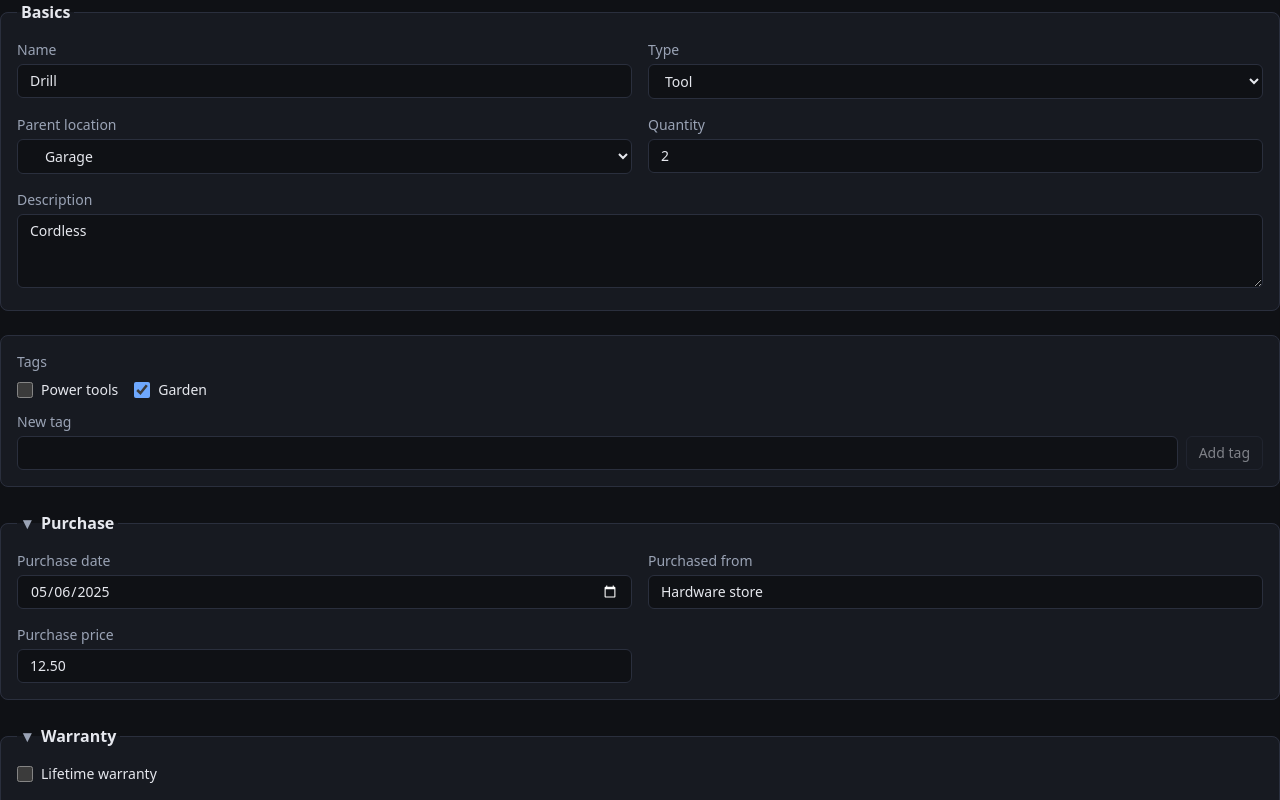
EntityForm › submit gating › disables Save again when the name is cleared in edit mode
expect the checkbox labelled "Garden" is shown: met, box [134, 382, 150, 398]
Clear the field labelled "Name" at (324, 81), box [17, 64, 632, 98]
(page scrolled)
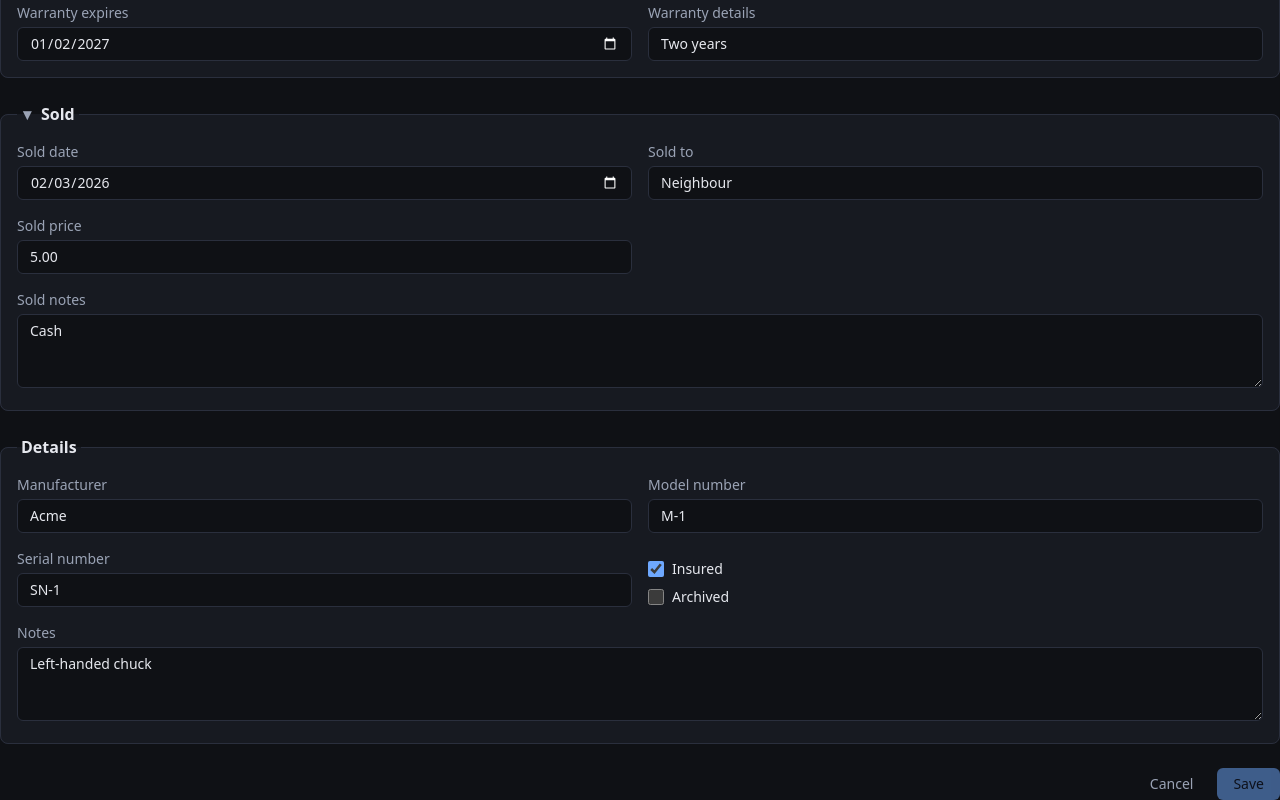
expect the button "Save" is disabled: met, box [1217, 768, 1279, 799]
